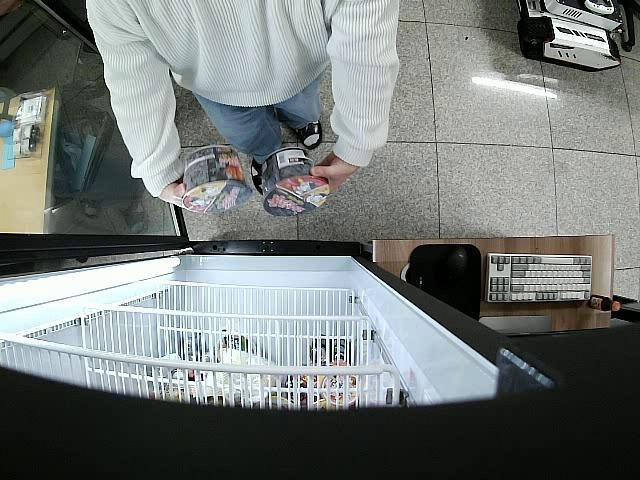07_buldak_L: (260, 146, 330, 218), (182, 144, 252, 215)
